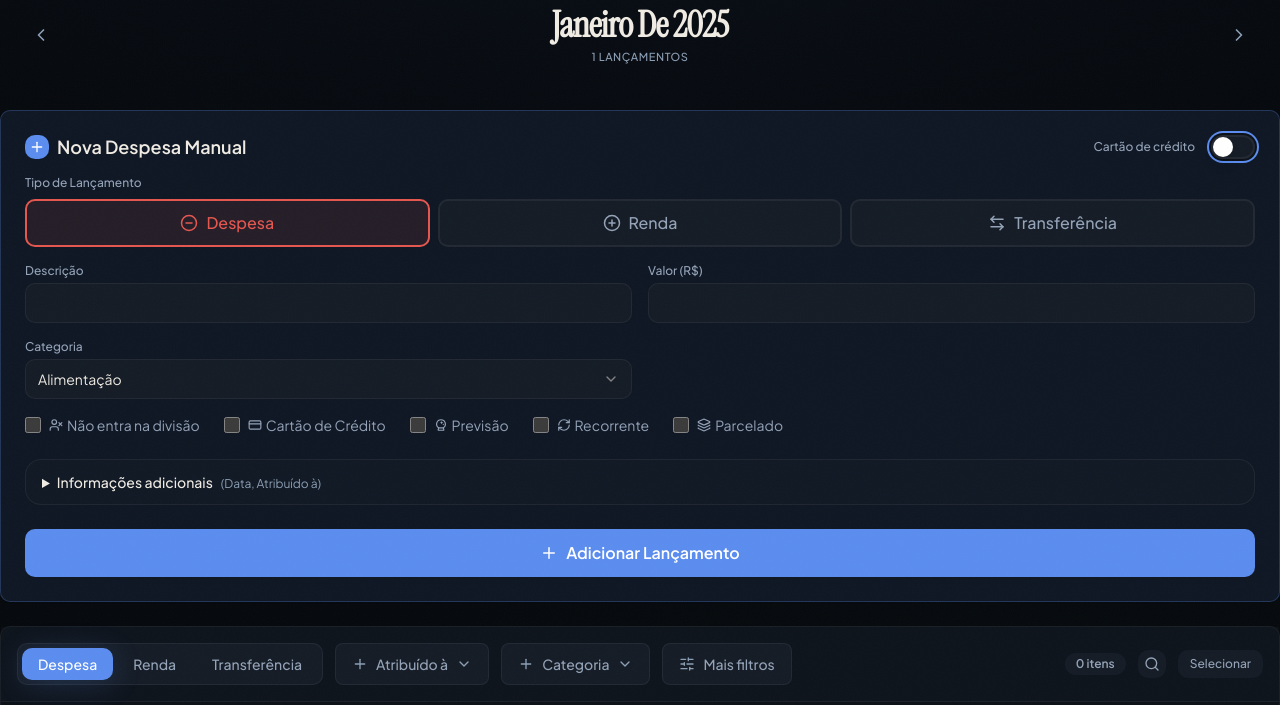
Test: TransactionsView › Transaction list › shows transfer route as payer -> receiver
Click the button "Transferência" in the row of "itens".
click(257, 664)  # box [196,648,318,680]
(page scrolled)
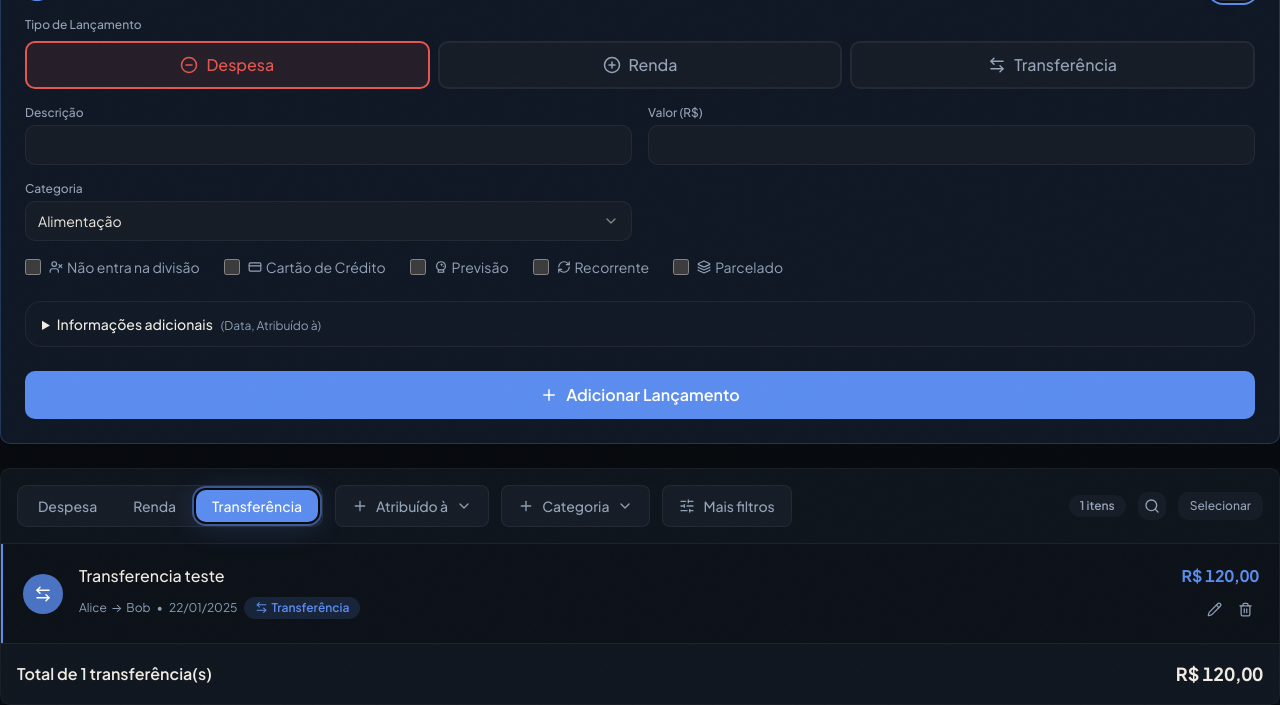
Expected: the text "Transferencia teste" is shown, [79,565,225,586]
Expected: the text "Transferencia teste" reads "Transferencia teste R$ 120,00 Alice → Bob • 22/01/2025 Transferência", [1,544,1279,643]
